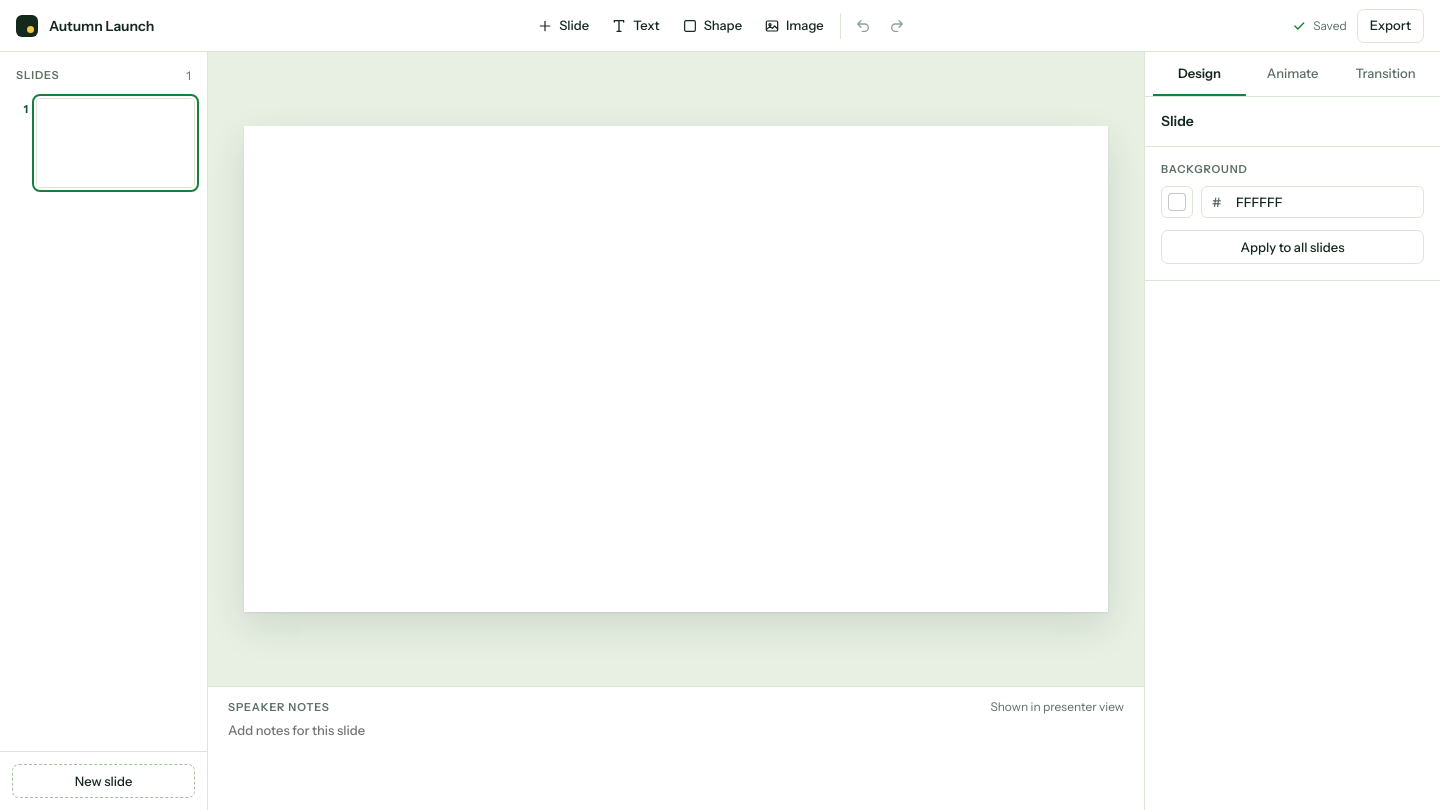
Test: Given the notes field, When the letter t is typed, Then it is text and does not arm the text tool
Expected: the option named "Slide 1" is shown, [12,98,195,188]
Click the text box named "Speaker notes text" at point(676, 759), box [228,721,1124,798]
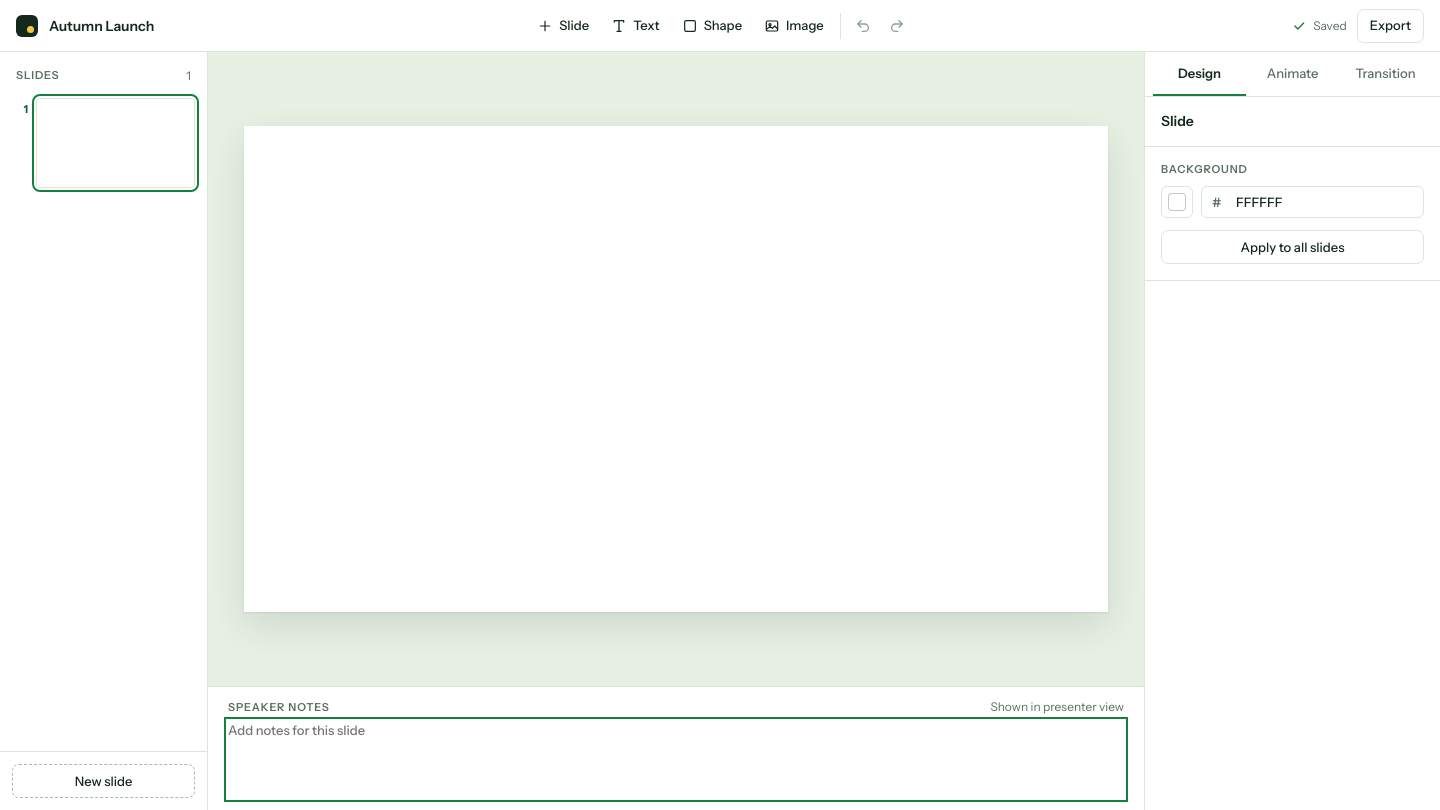
Type keys "tea time"
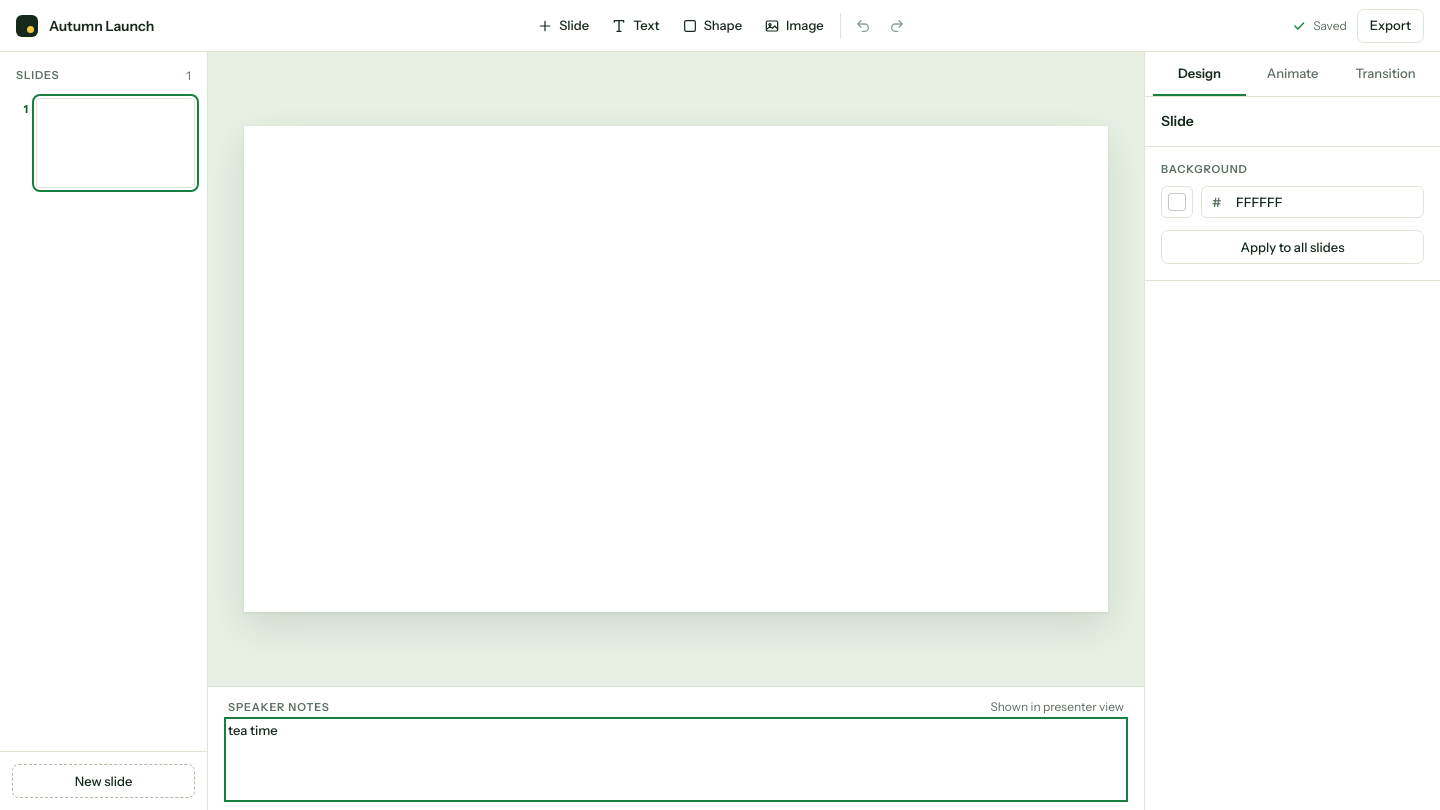
Now the text box named "Speaker notes text" holds "tea time", box [228,721,1124,798]
